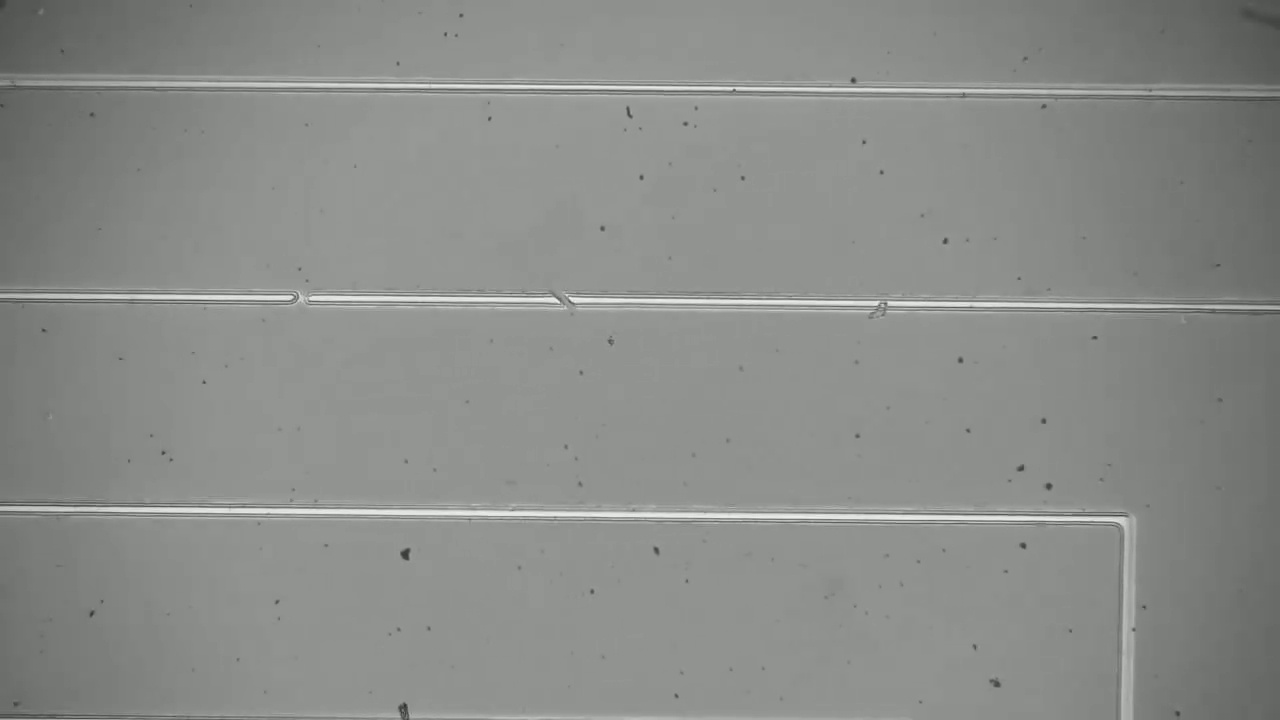open: (276, 278, 323, 321), (533, 284, 585, 321)
stains_enbedded: (856, 286, 901, 326)
